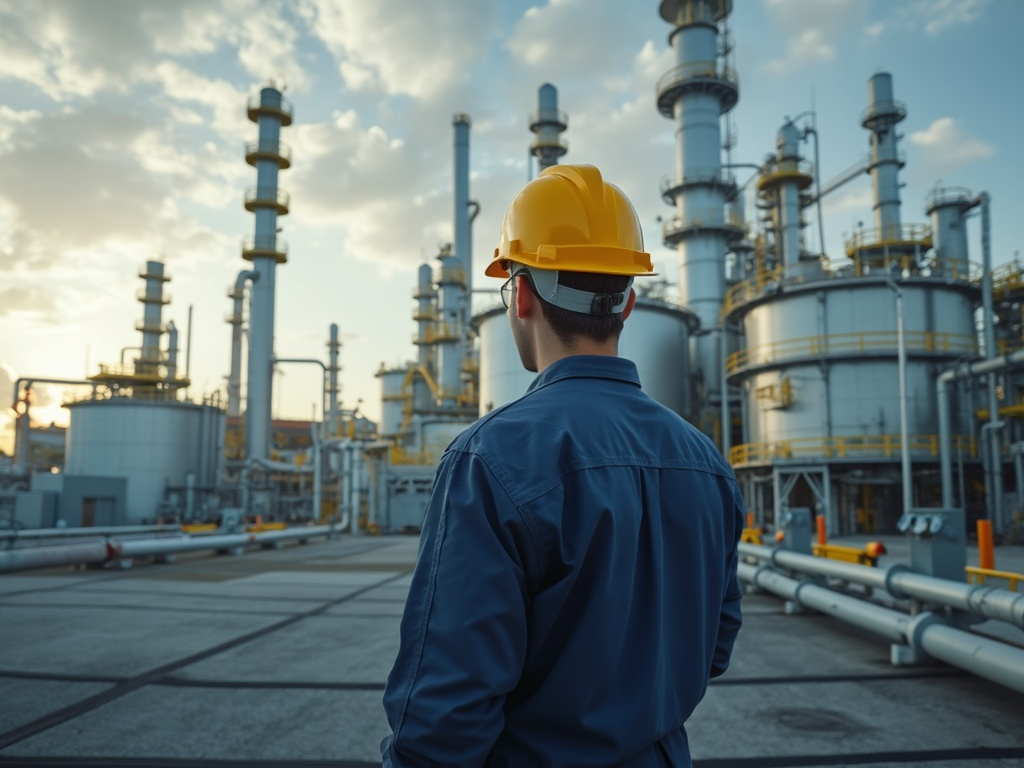safety_cap: (476, 151, 667, 325)
